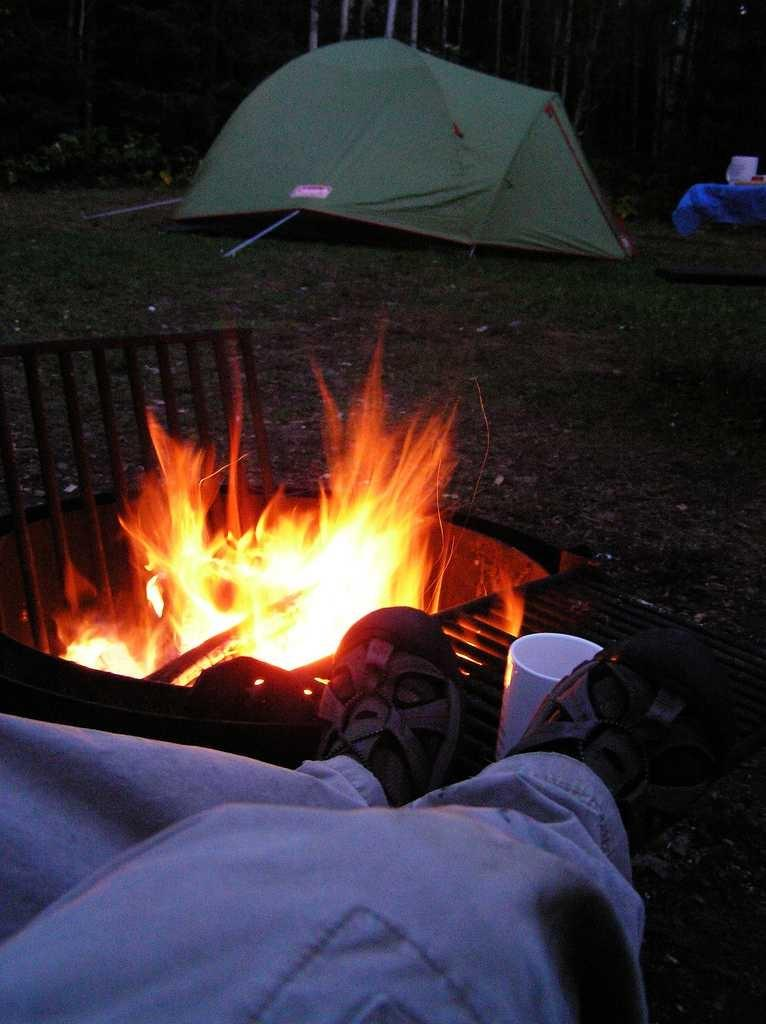fire: (110, 392, 450, 685)
